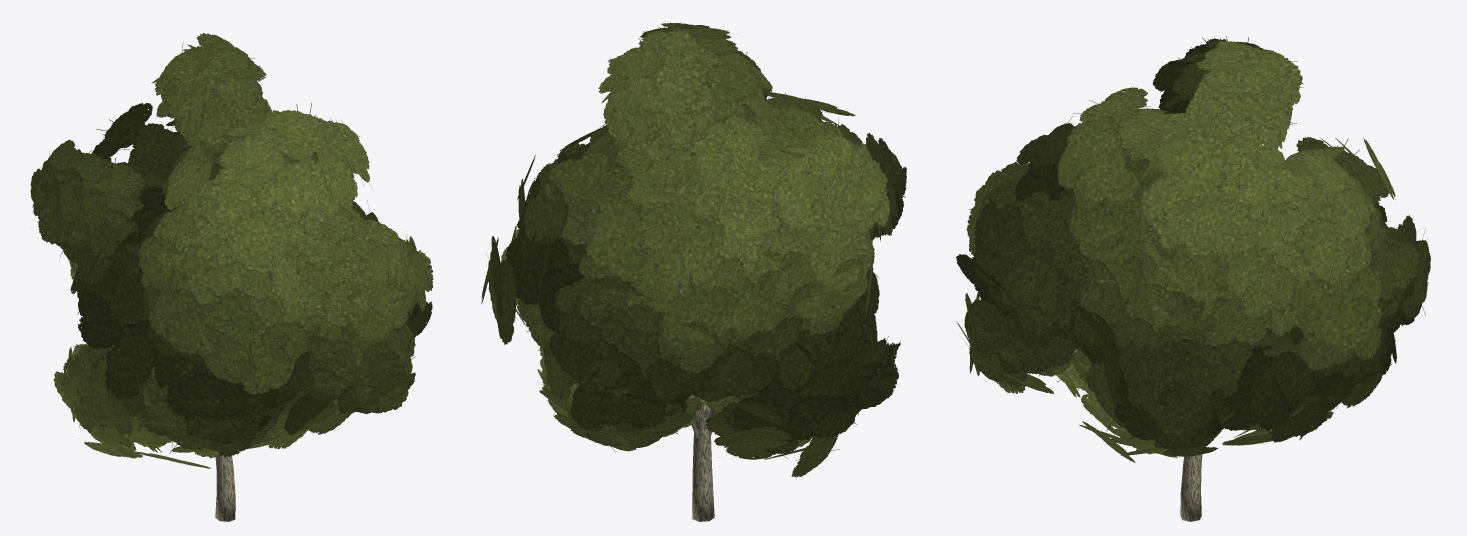
The model's file is SM_Albero_LatifogliaA_LOD1.fbx.
3 views of the same model, side by side, from view 1: azimuth 30°, elevation 25°; view 2: azimuth 150°, elevation 25°; view 3: azimuth 270°, elevation 25° (orthographic). The views are drawn at different scales.
Parts seen in each view (by area): view 1: SM_Albero_LatifogliaA_LOD1; view 2: SM_Albero_LatifogliaA_LOD1; view 3: SM_Albero_LatifogliaA_LOD1.
Part boxes in pixels (<box>): SM_Albero_LatifogliaA_LOD1: <box>30,33,433,521</box>; SM_Albero_LatifogliaA_LOD1: <box>481,22,906,521</box>; SM_Albero_LatifogliaA_LOD1: <box>956,36,1430,521</box>.
Bounding box in the file's own units: 1912 × 2065 × 2207.
Materials: 2 (2 with a texture image).
